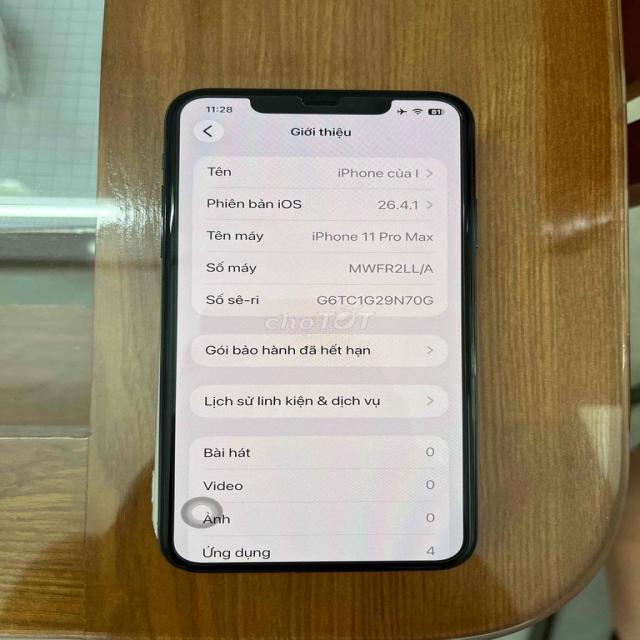gen_11: (154, 89, 477, 572)
